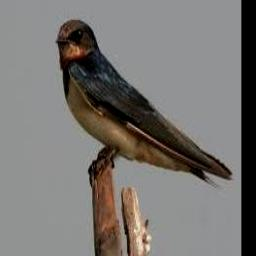Swallow: (56, 21, 233, 185)
